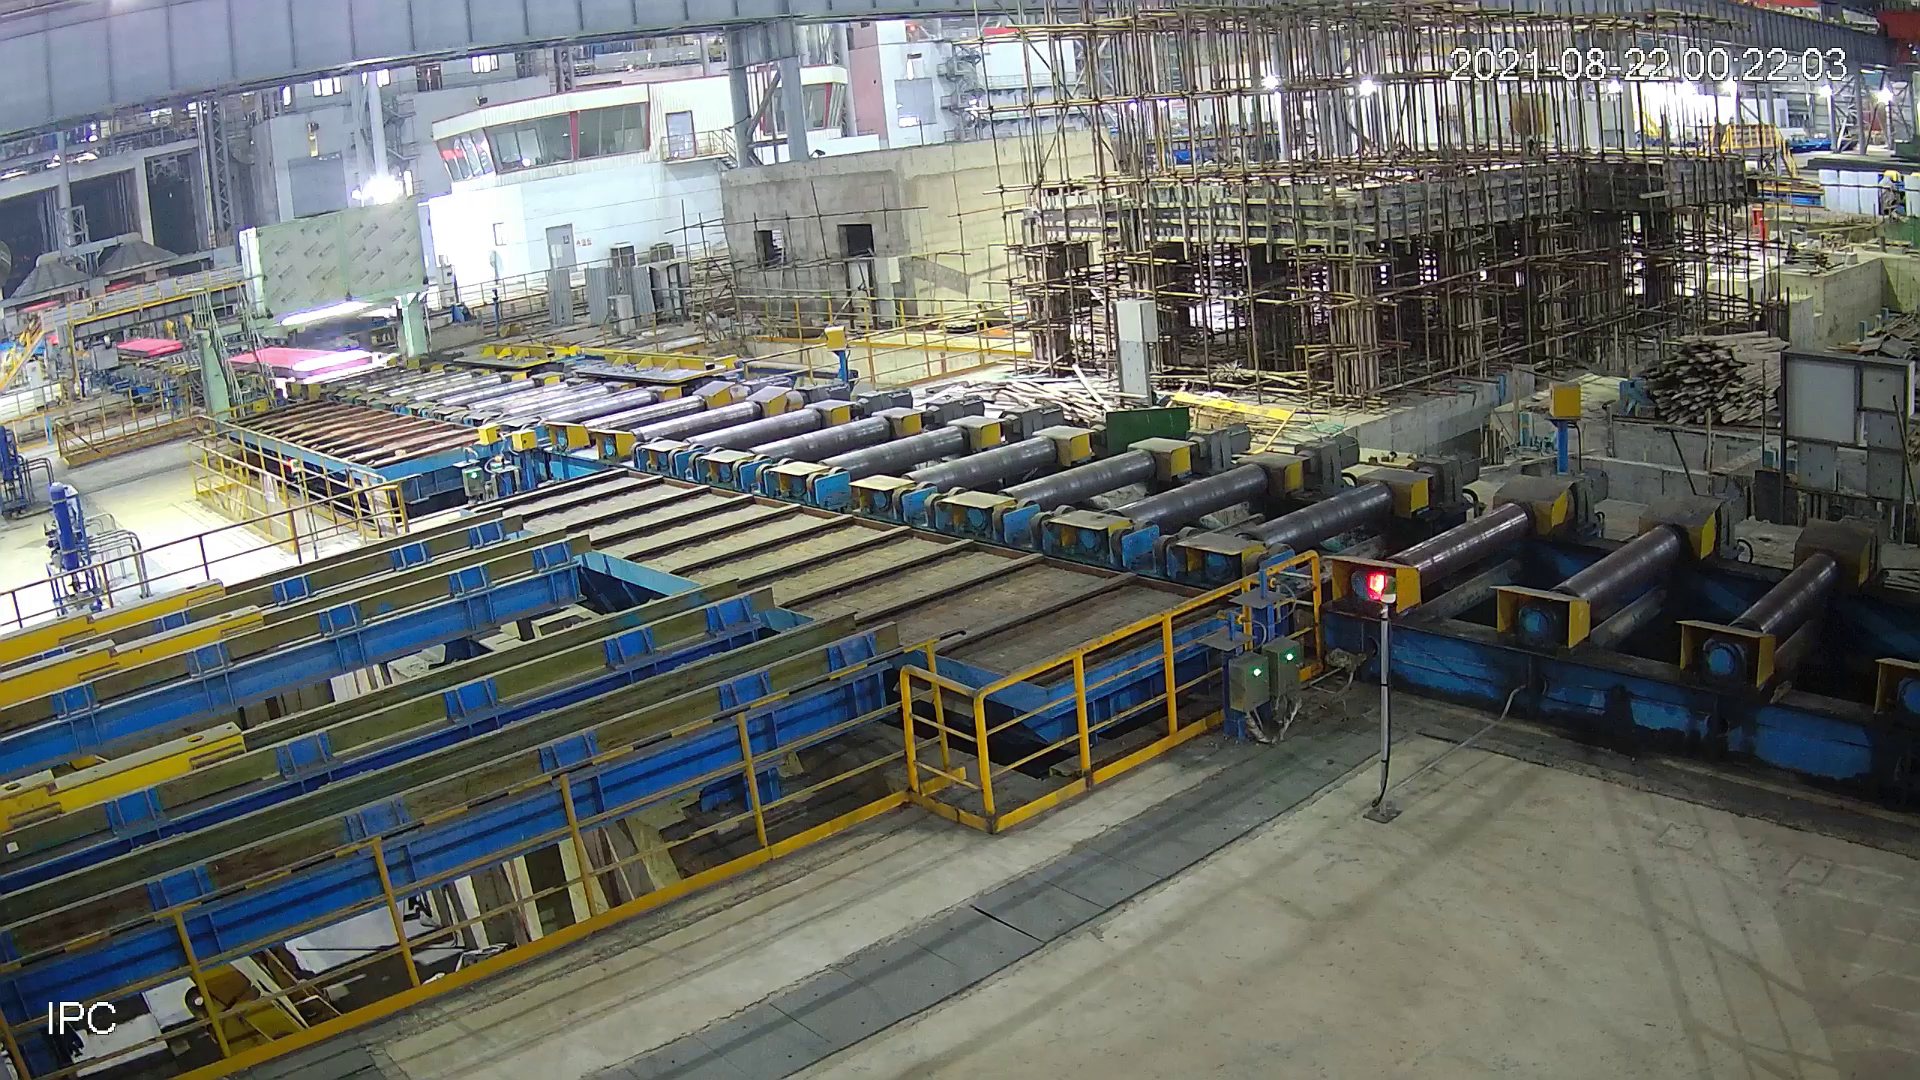slab: (223, 338, 380, 385), (109, 330, 189, 363)
